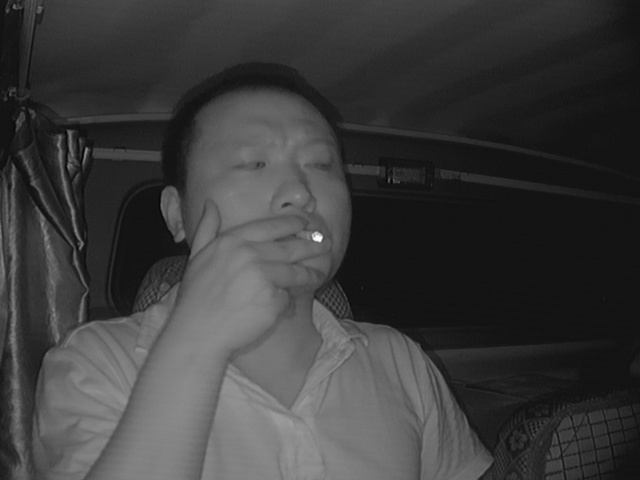hand: (238, 214, 327, 313)
